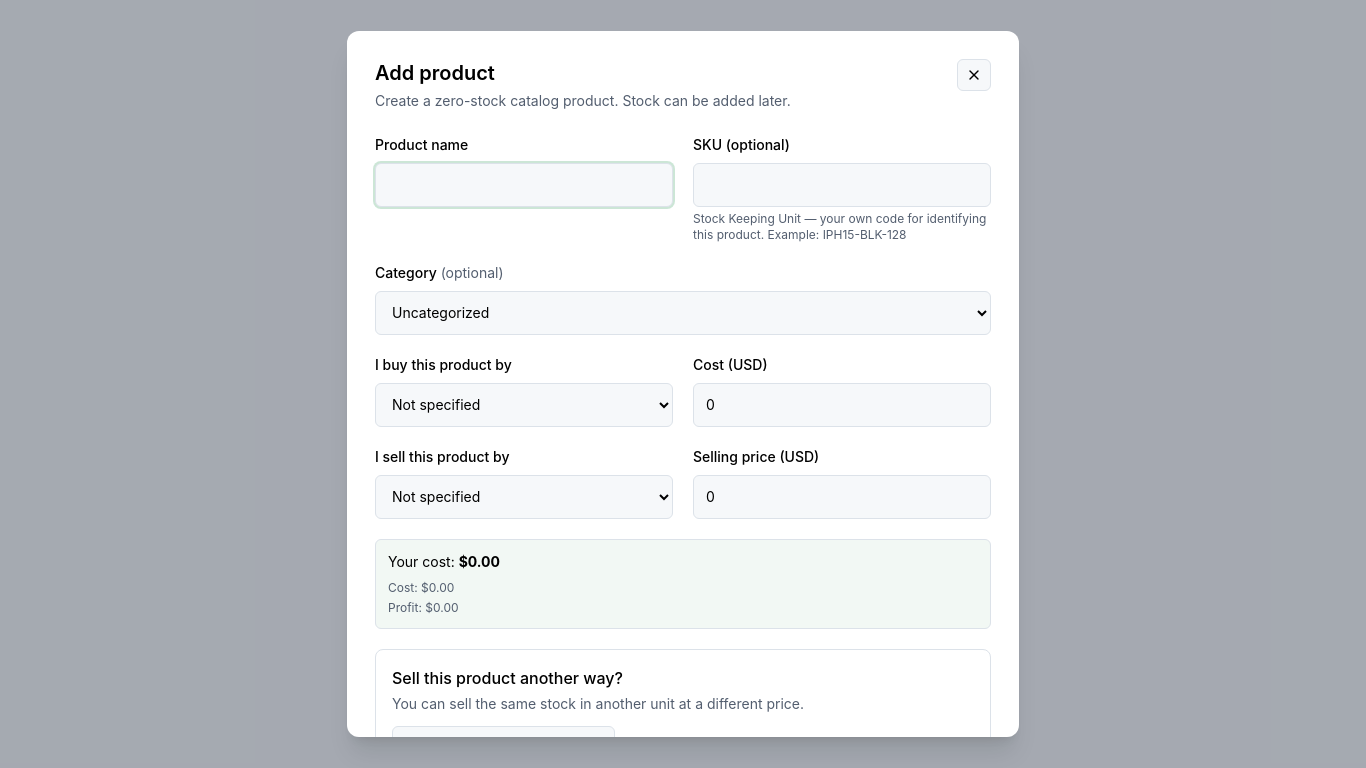
Test: ProductFormDialog › shows a useful duplicate SKU error
The image size is (1366, 768).
In the field labelled "Product name": (524, 185) [375,163,673,207], type "USB Cable"
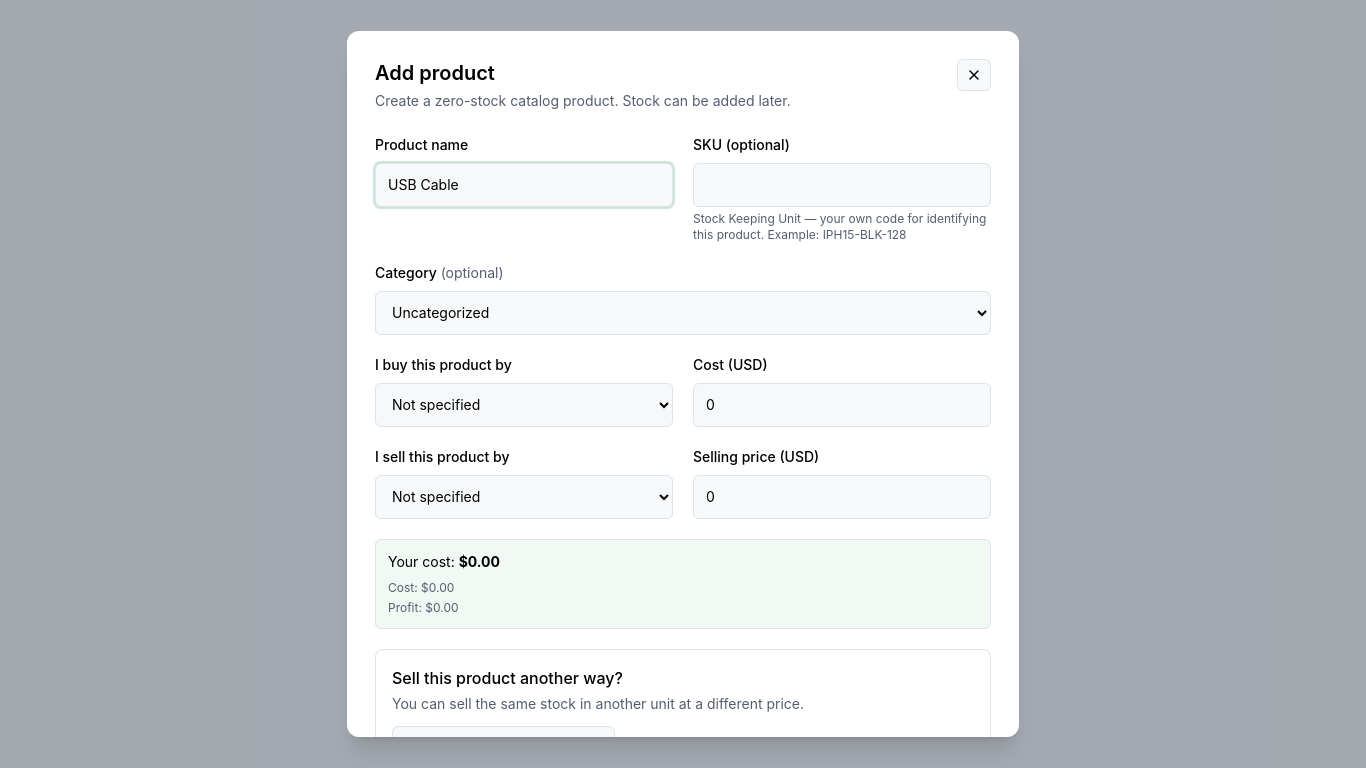
In the field labelled "SKU (optional)": (842, 185) [693,163,991,207], type "USB-1"
(page scrolled)
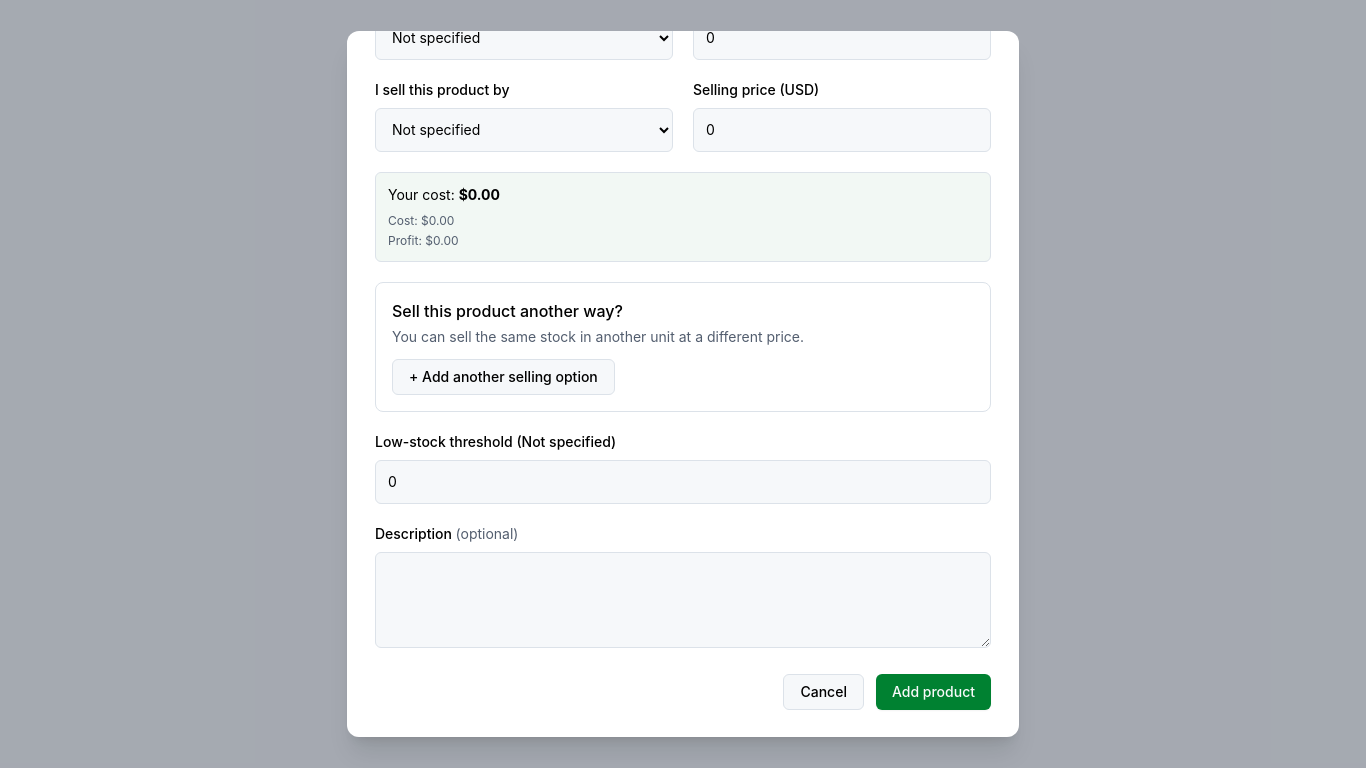
Click the button "Add product": (934, 692) [876,674,991,710]
(page scrolled)
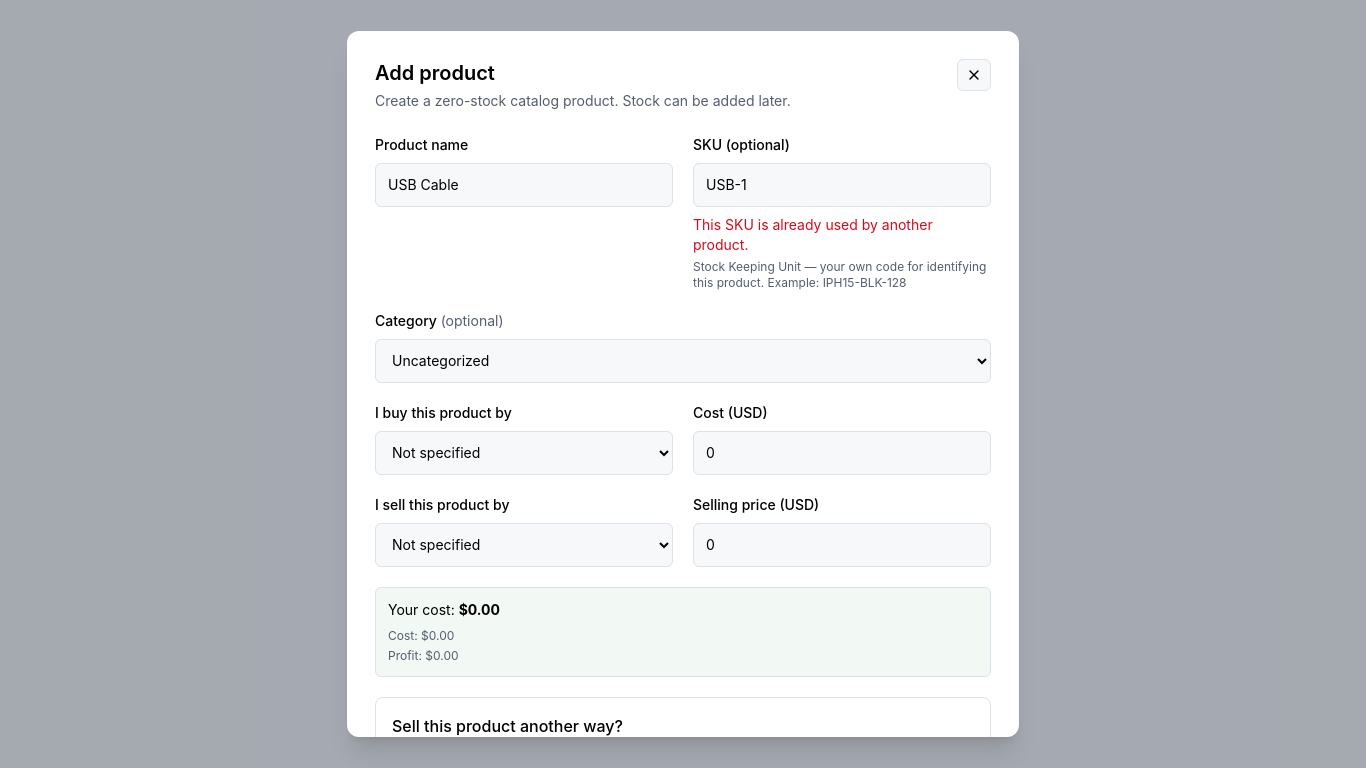
Result: the text "This SKU is already used by another product." is shown at [693,216,933,253]
